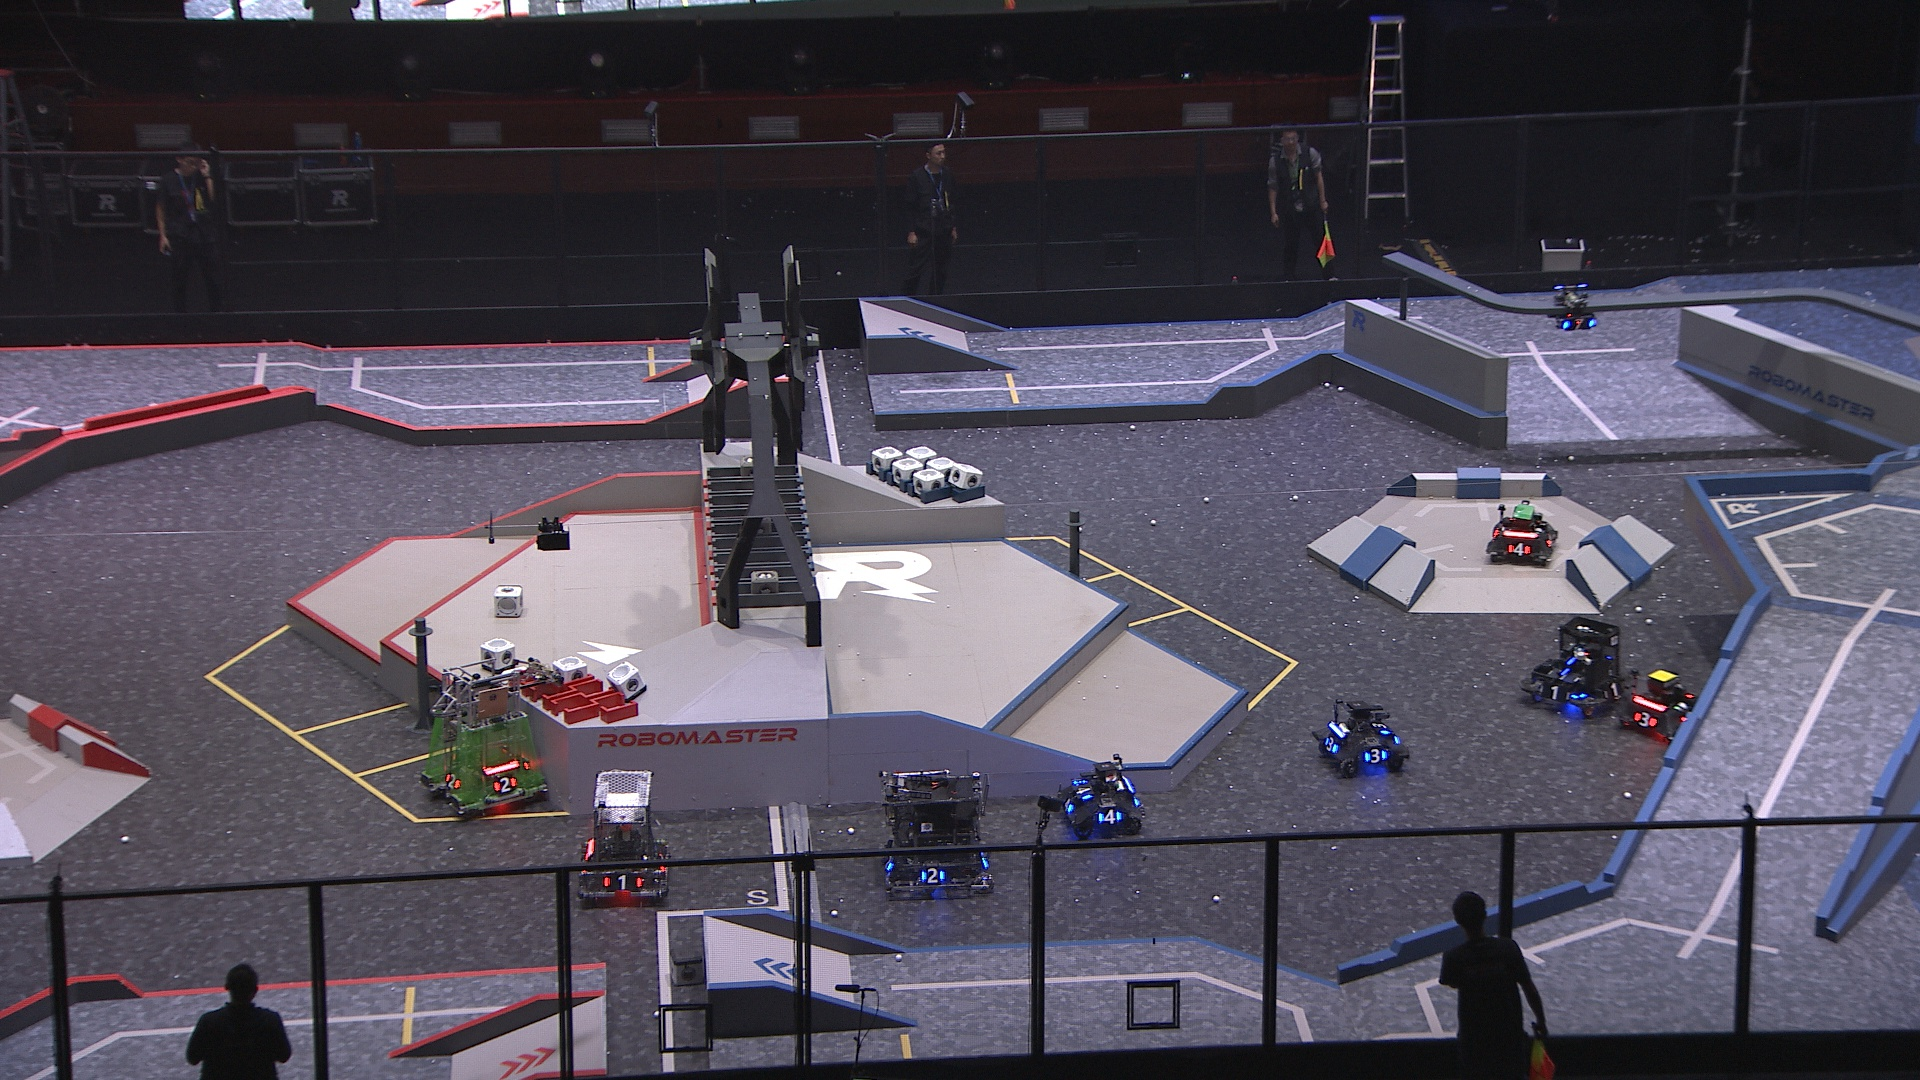armor: (603, 872, 644, 891), (1547, 669, 1581, 687), (1538, 683, 1572, 702), (1633, 709, 1662, 731), (1563, 318, 1596, 332), (1097, 808, 1125, 825), (1073, 781, 1096, 802), (493, 774, 517, 794), (1602, 680, 1626, 700), (1506, 541, 1532, 556), (1364, 749, 1390, 765), (920, 868, 945, 884), (1323, 736, 1342, 756), (1371, 719, 1393, 737), (444, 771, 462, 790), (1059, 798, 1076, 816)
car: (419, 659, 551, 818), (884, 770, 998, 898), (576, 767, 674, 909), (1524, 616, 1627, 721), (1309, 695, 1414, 775), (1055, 754, 1145, 844), (1617, 673, 1712, 746), (1485, 500, 1560, 567)
watcher: (1551, 284, 1600, 334)
